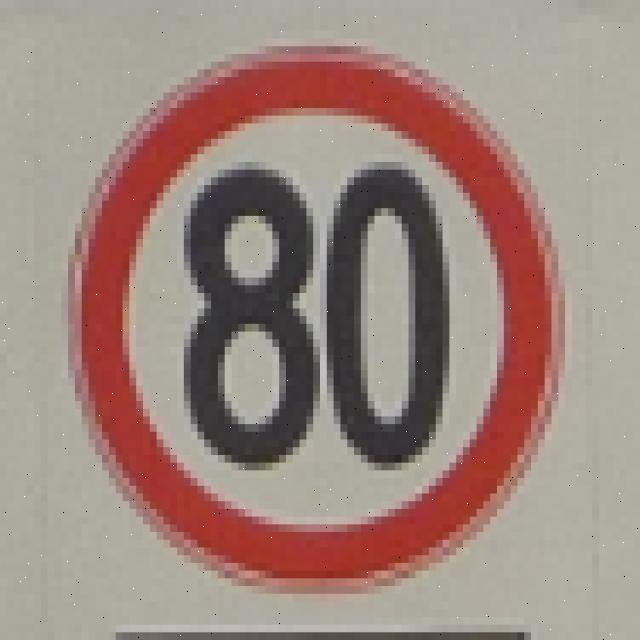speed limit 80: (79, 47, 562, 590)
